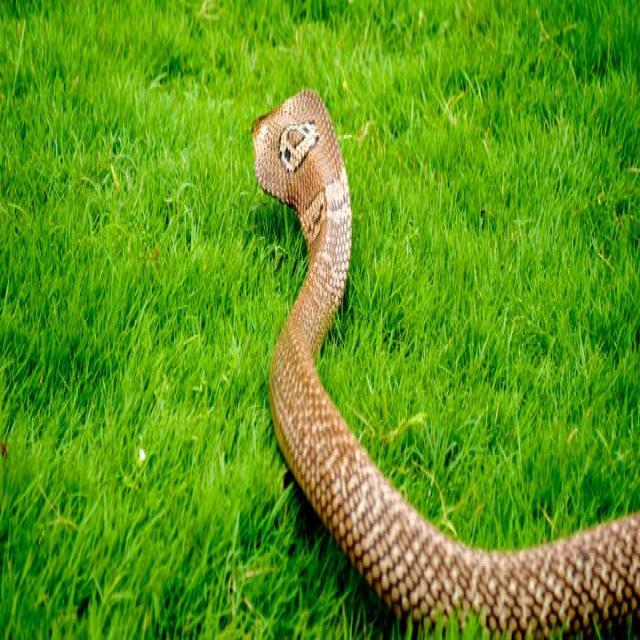Snake: (249, 81, 640, 640)
